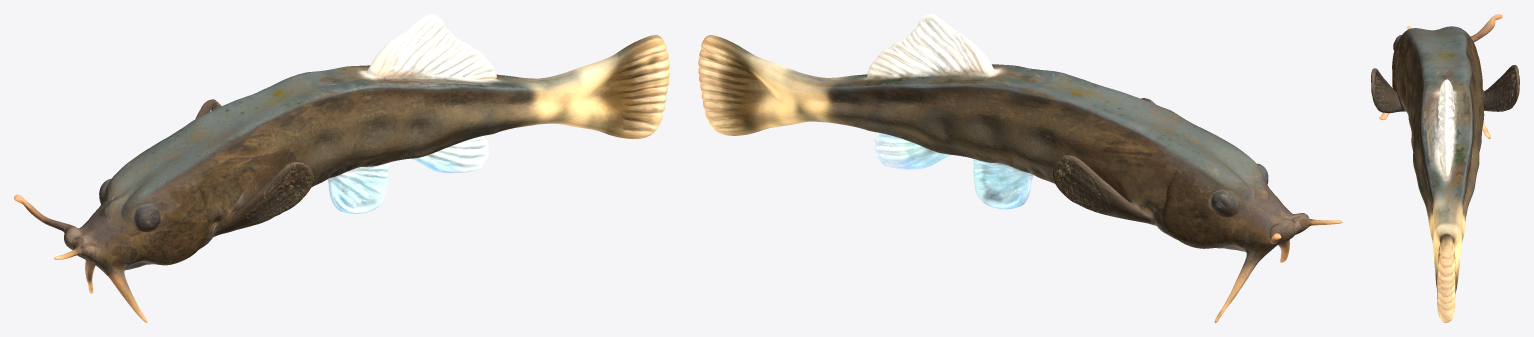
The model's file is loach.fbx.
The picture shows the model from 3 angles, left to right: view 1: azimuth 30°, elevation 25°; view 2: azimuth 150°, elevation 25°; view 3: azimuth 270°, elevation 25°; orthographic projection. The views are drawn at different scales.
Visible parts, largest first — view 1: world; view 2: world; view 3: world.
Part boxes in pixels (x1,y1,x2,y2): world: (14, 14, 669, 322); world: (698, 14, 1342, 322); world: (1371, 14, 1519, 322).
Bounding box in the file's own units: 199 × 66.06 × 46.69.
Materials: 1 (1 with a texture image).
